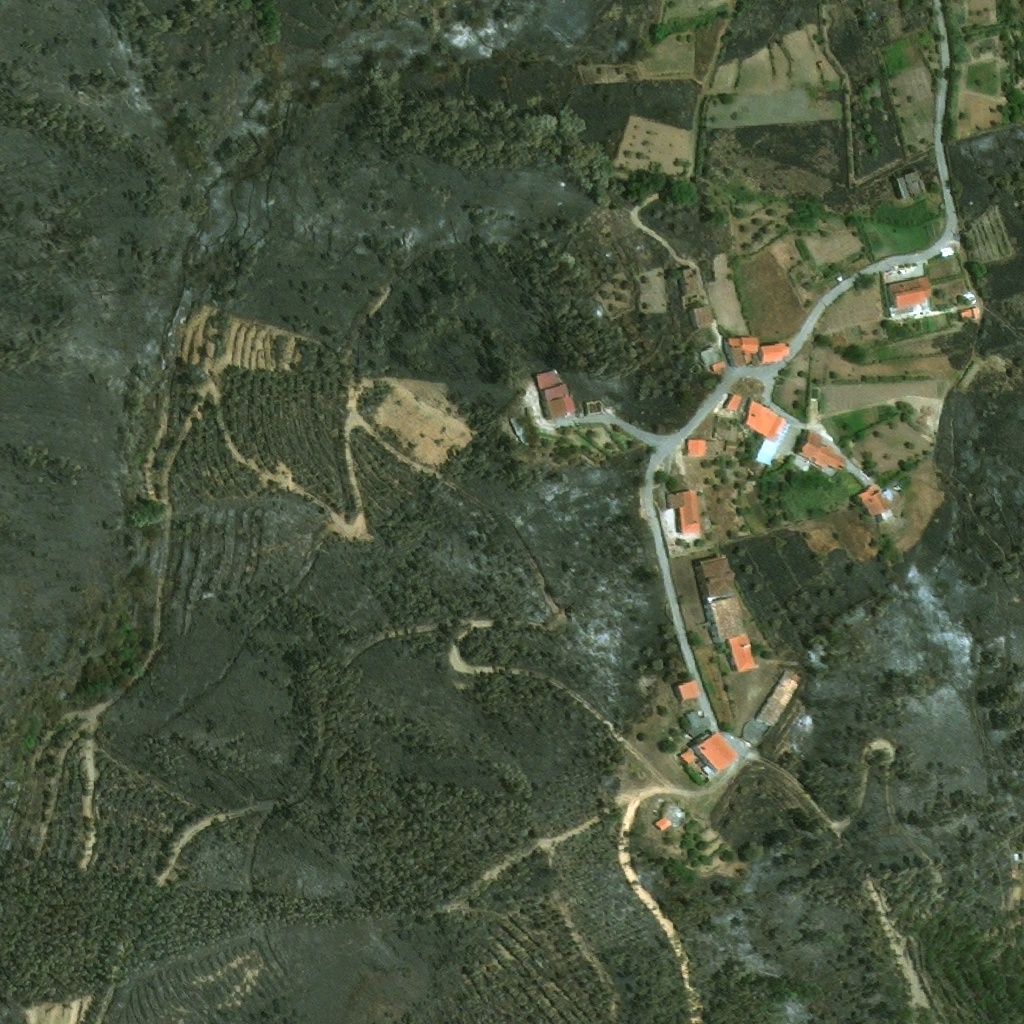0 no-damage: (692, 551, 757, 672), (739, 395, 794, 468), (789, 425, 852, 474), (753, 670, 799, 728), (887, 273, 934, 328), (534, 367, 578, 421), (697, 728, 742, 770), (664, 488, 702, 533), (856, 482, 890, 519), (895, 169, 928, 202), (725, 333, 758, 366), (684, 708, 713, 736), (693, 745, 720, 773), (757, 340, 791, 362), (695, 344, 721, 369), (692, 303, 713, 330), (722, 389, 742, 414), (678, 678, 700, 700), (890, 177, 904, 203), (687, 437, 707, 455), (655, 815, 672, 830), (673, 683, 685, 703), (959, 307, 976, 321), (686, 308, 696, 331), (711, 358, 726, 373), (725, 440, 738, 451), (974, 307, 982, 319)
1 minor-damage: (681, 266, 700, 295), (677, 276, 685, 296)
3 destroyed: (583, 399, 603, 415)
